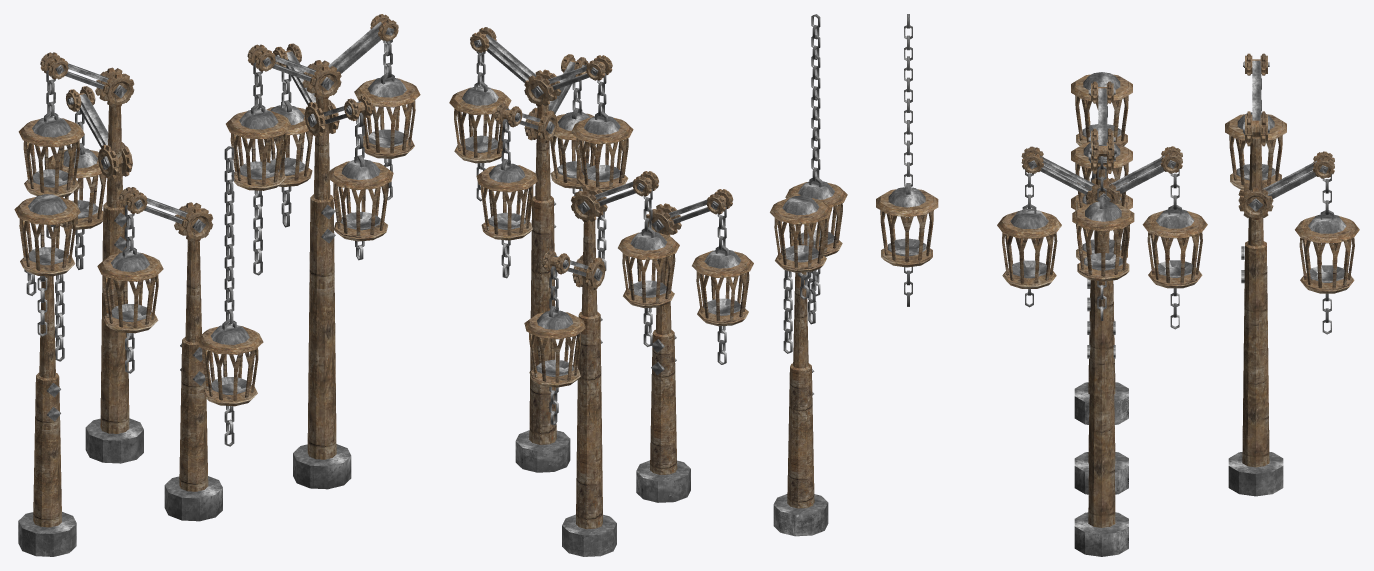
File: lantern.FBX
The picture shows the model from 3 angles, left to right: view 1: azimuth 30°, elevation 25°; view 2: azimuth 150°, elevation 25°; view 3: azimuth 270°, elevation 25°; orthographic projection. The views are drawn at different scales.
Parts seen in each view (by area): view 1: pieces (×22), Lantern_crane_4, Lantern_crane_2, Lantern_crane, Lantern_normal, Lantern_hang; view 2: pieces (×16), Lantern_crane_2, Lantern_crane_4, Lantern_normal, Lantern_crane, Lantern_hang; view 3: pieces (×15), Lantern_crane_2, Lantern_crane_4, Lantern_crane, Lantern_normal, Lantern_hang.
Part boxes in pixels (x1,y1,x2,y2): pieces (×22): [14, 21, 420, 406]; Lantern_crane_4: [293, 97, 351, 489]; Lantern_crane_2: [85, 104, 143, 463]; Lantern_crane: [164, 239, 222, 521]; Lantern_normal: [18, 276, 76, 556]; Lantern_hang: [222, 146, 236, 330]; pieces (×16): [449, 34, 847, 387]; Lantern_crane_2: [562, 220, 616, 556]; Lantern_crane_4: [515, 104, 570, 472]; Lantern_normal: [773, 272, 828, 536]; Lantern_crane: [636, 257, 690, 502]; Lantern_hang: [809, 14, 822, 187]; pieces (×15): [876, 60, 1359, 293]; Lantern_crane_2: [1228, 137, 1283, 496]; Lantern_crane_4: [1074, 165, 1128, 556]; Lantern_crane: [1074, 321, 1128, 494]; Lantern_normal: [1074, 172, 1128, 424]; Lantern_hang: [904, 14, 912, 194].
Size of the model in its own units: 183 by 198 by 197.
